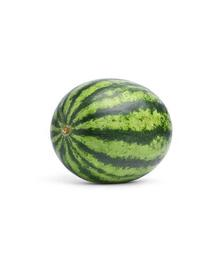watermelon: (49, 78, 172, 186)
